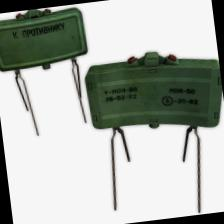MOH-50: (74, 42, 224, 224), (0, 3, 91, 75)
